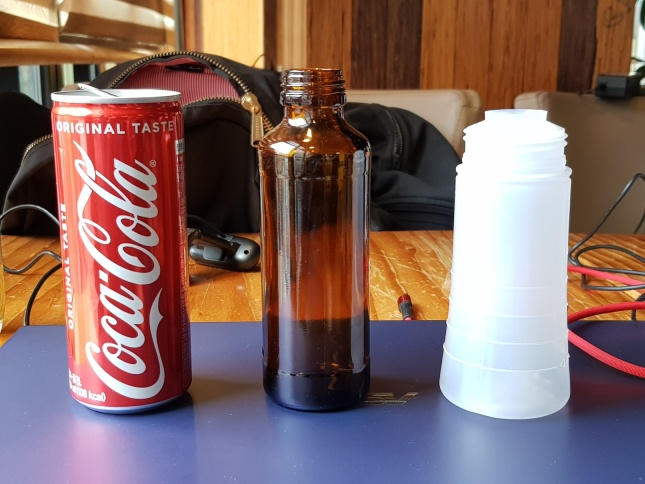Can: (48, 77, 195, 416)
Glass: (253, 59, 375, 414)
Plastic: (433, 104, 576, 420)
